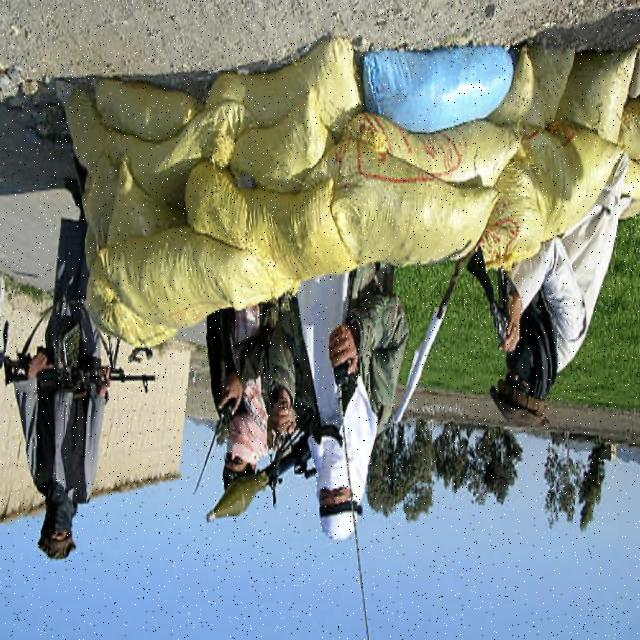bazooka: (202, 417, 313, 532)
